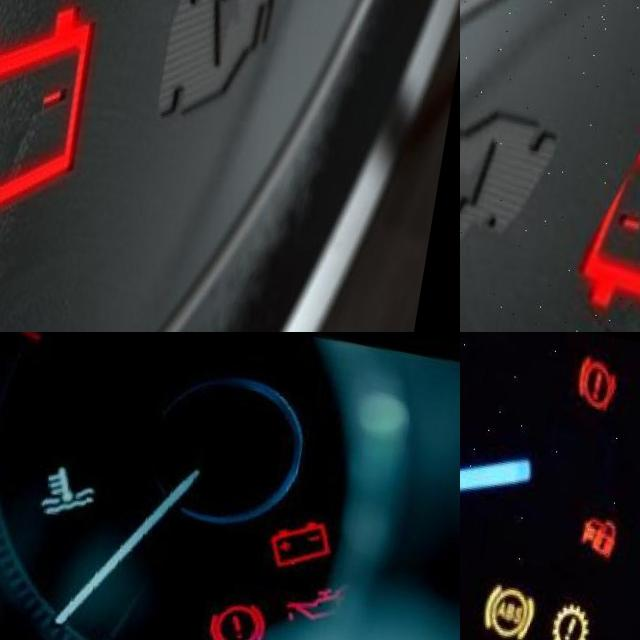High Engine Coolant Temperature: (54, 455, 117, 517)
